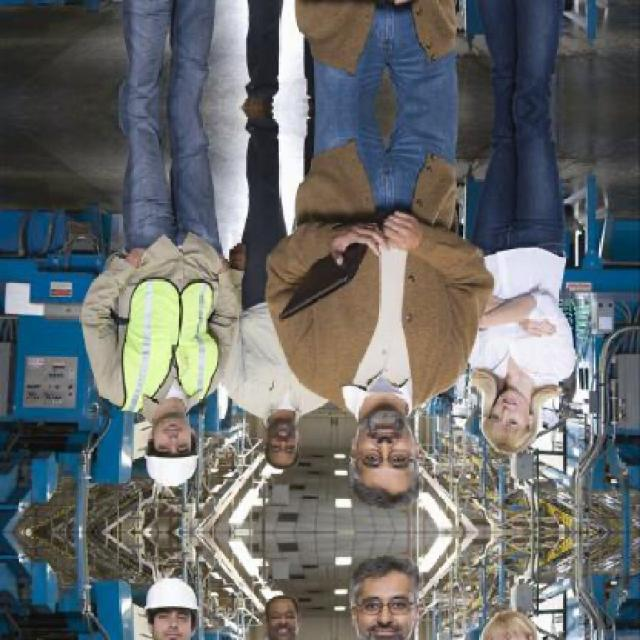con casco: (132, 380, 214, 495)
sin casco: (320, 342, 422, 532), (466, 342, 556, 462), (241, 381, 305, 480)
